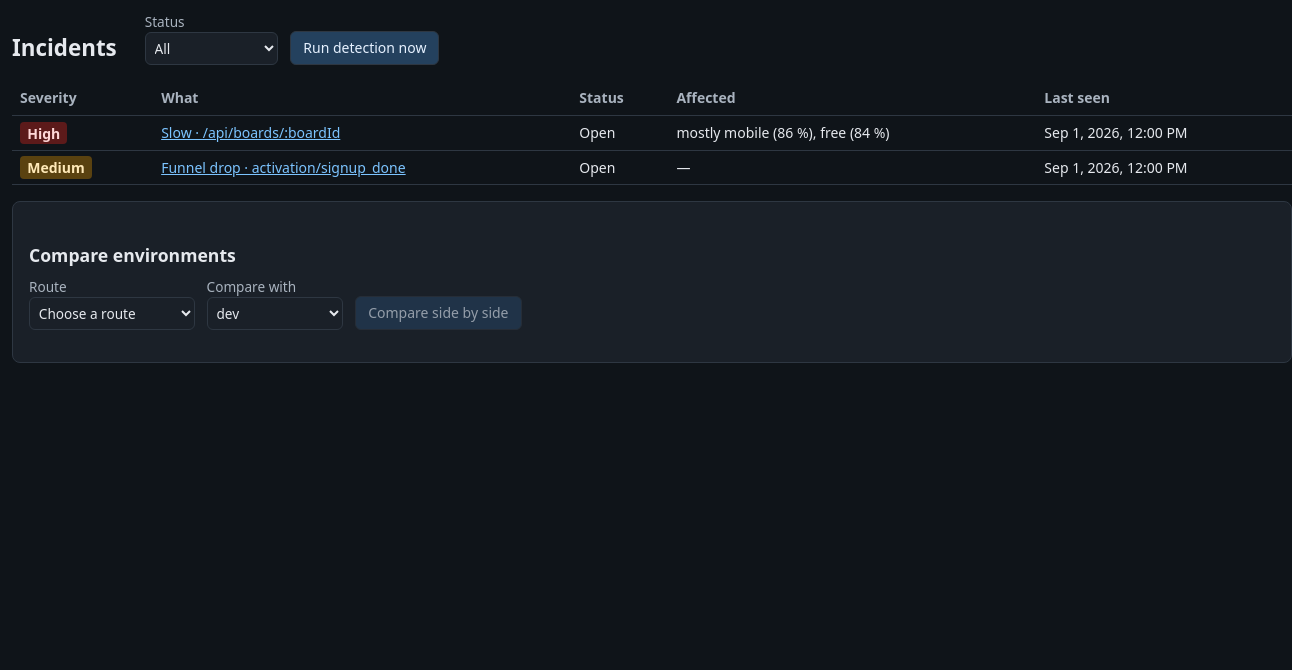
Test case: detail: actions disabled when not replayable, action errors shown, missing facts dashed
The width and height of the screenshot is (1292, 670).
Click the button "Funnel drop · activation/signup_done" at (283, 167), box [161, 157, 406, 178]
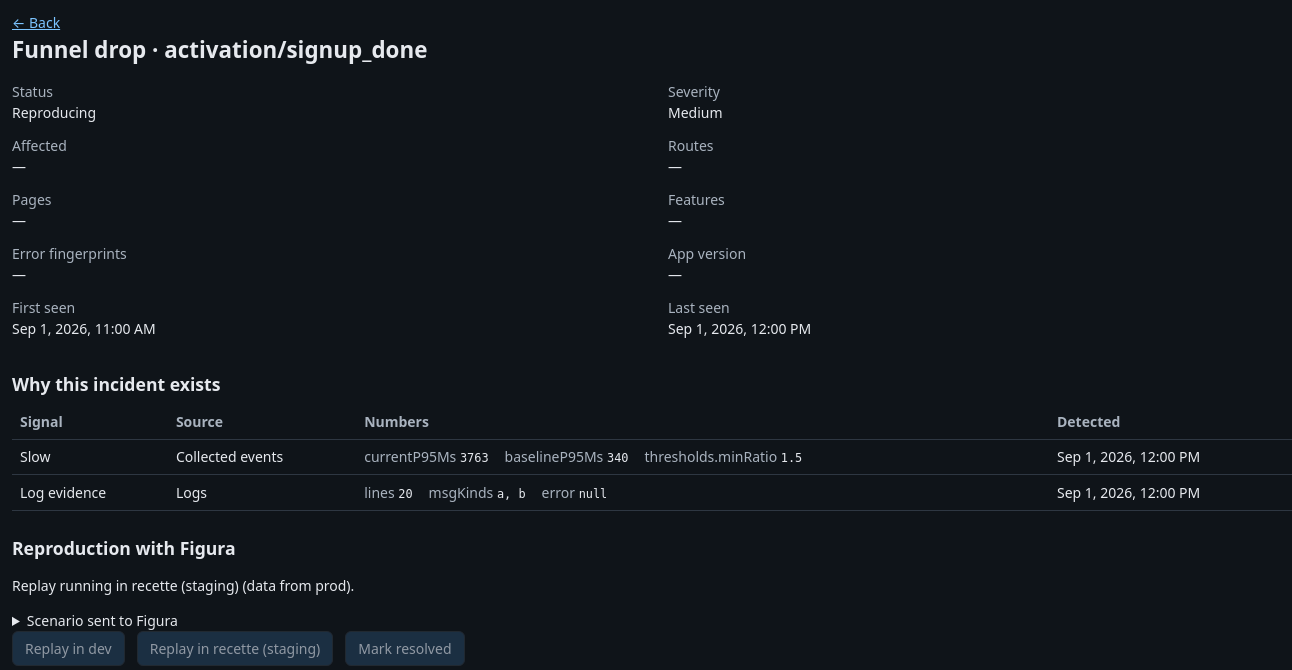
Expected: the text "Replay running in recette (staging) (data from prod)." is shown, [12, 576, 354, 596]
Expected: the button "Replay in dev" is disabled, [12, 632, 125, 666]
Expected: the button "Mark resolved" is disabled, [345, 632, 464, 666]
Click the button "← Back" at (36, 22), box [12, 12, 60, 33]
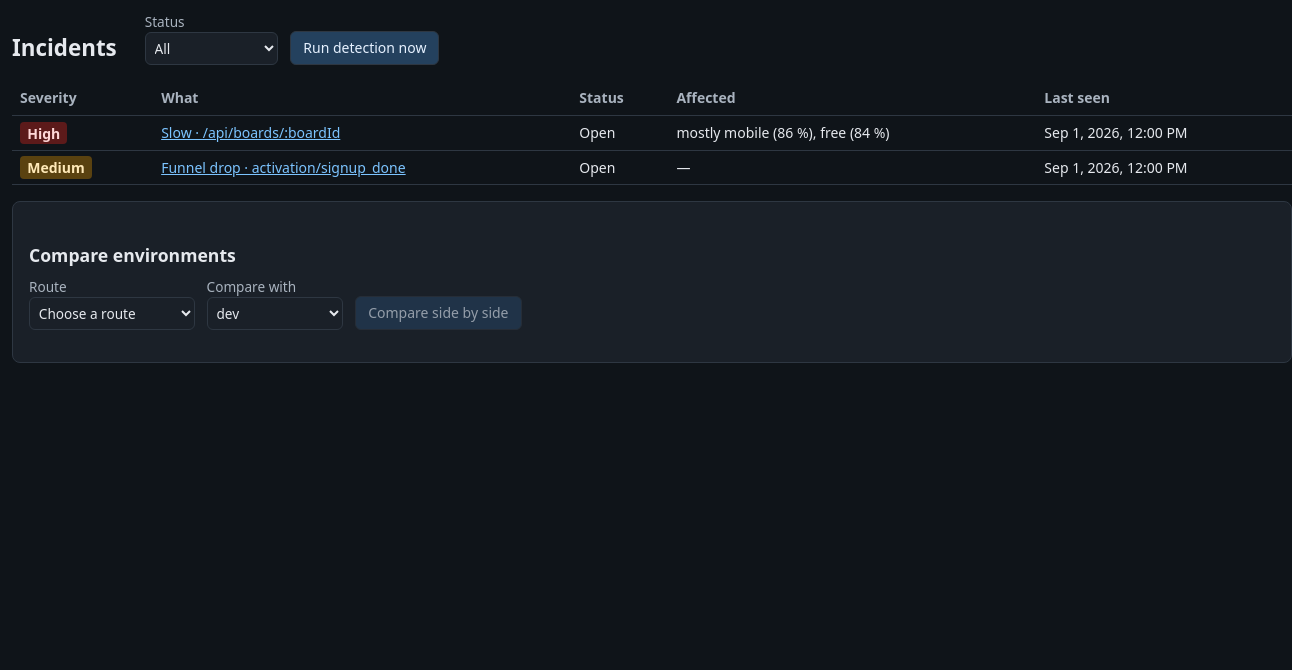
Click the button "Funnel drop · activation/signup_done" at (283, 167), box [161, 157, 406, 178]
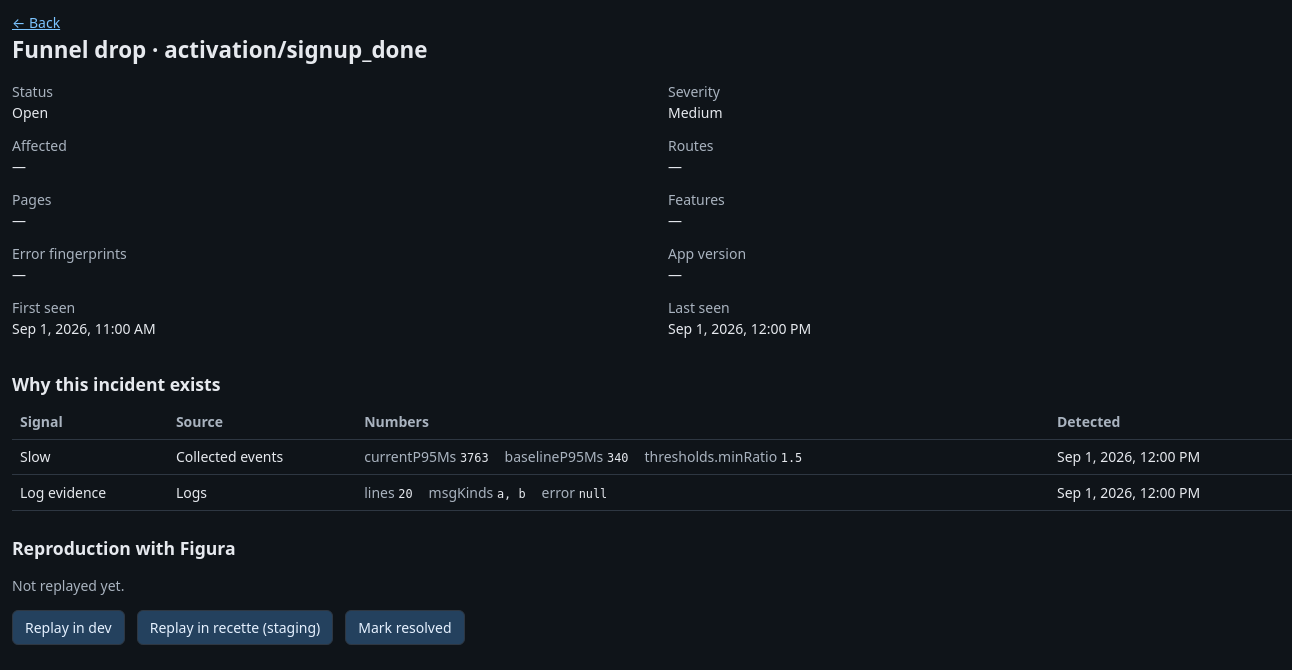
Click the button "Replay in dev" at (68, 628), box [12, 610, 125, 645]
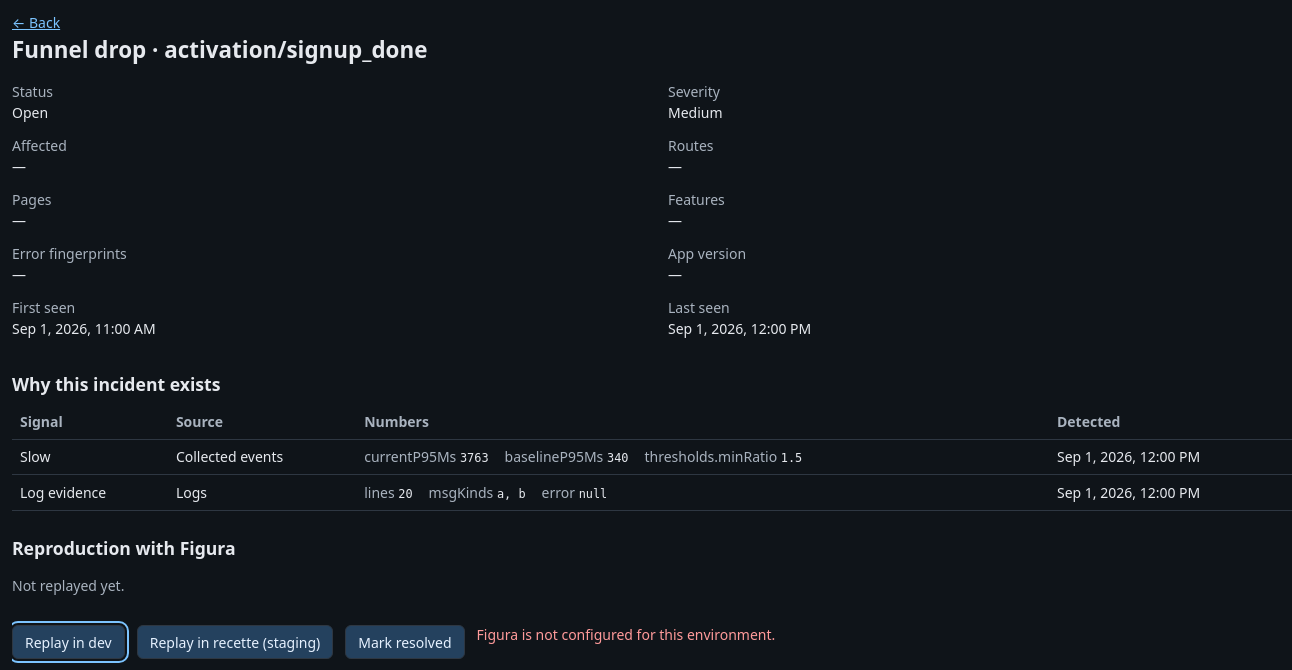
Expected: the text "Figura is not configured for this environment." is shown, [476, 624, 775, 646]
